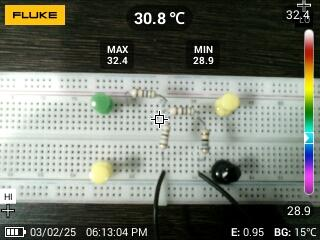resistor: (156, 121, 174, 152), (129, 85, 158, 102), (166, 103, 197, 117), (199, 126, 212, 154)
